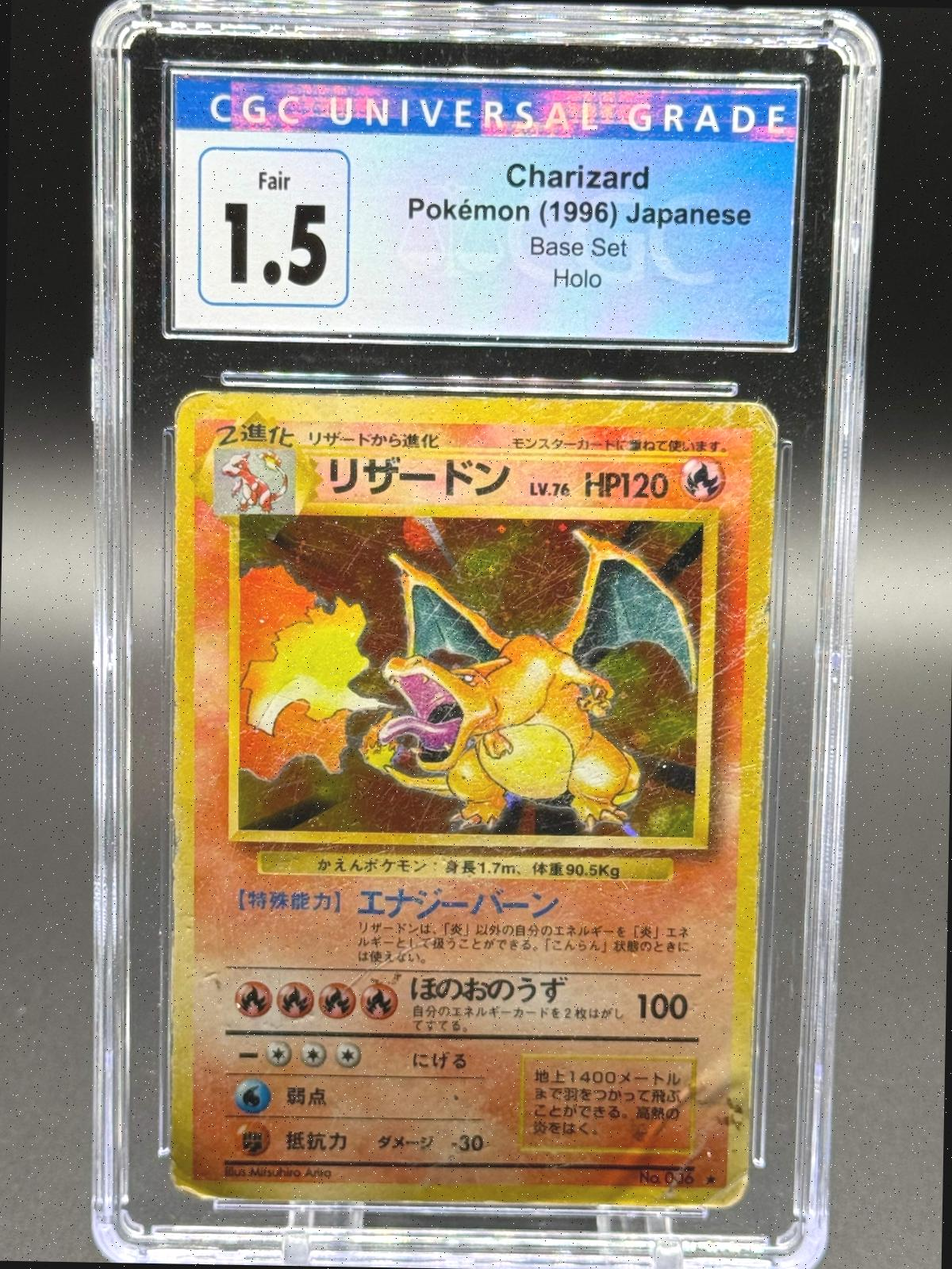card-2UtV: (170, 390, 780, 1210)
